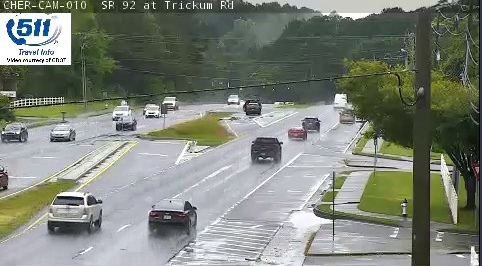car: (48, 192, 102, 225), (149, 200, 197, 229), (251, 137, 282, 160), (303, 116, 320, 131), (287, 127, 306, 140)
